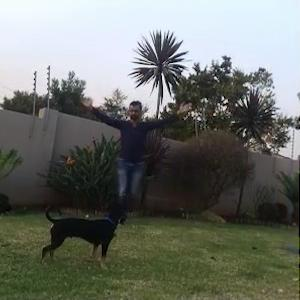takeoff: (82, 97, 197, 217)
